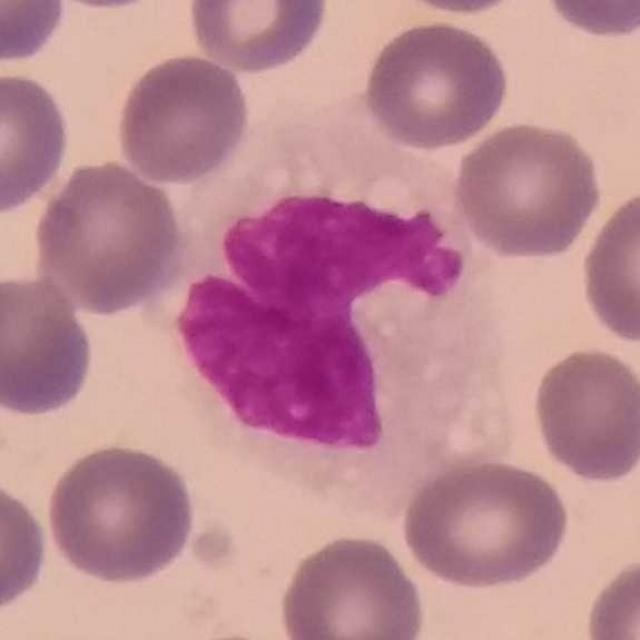mono: (147, 114, 523, 514)
